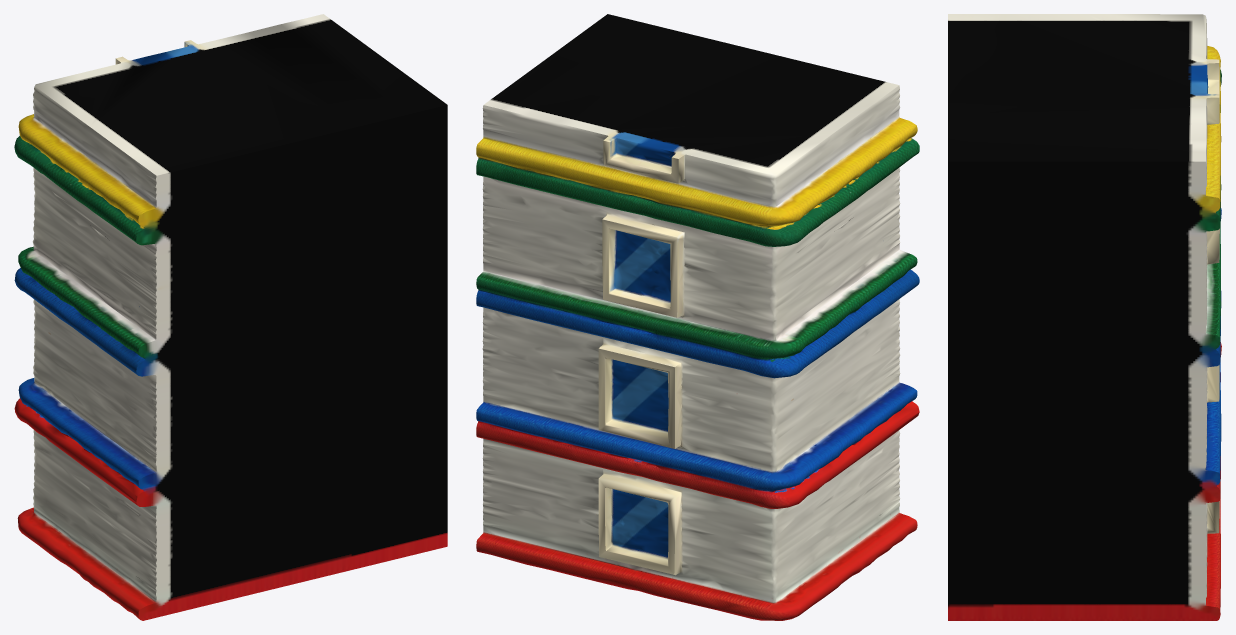
The model's file is 3-ground-floor-back-left.fbx.
The picture shows the model from 3 angles, left to right: view 1: azimuth 30°, elevation 25°; view 2: azimuth 150°, elevation 25°; view 3: azimuth 270°, elevation 25°; orthographic projection. The views are drawn at different scales.
Visible parts, largest first — view 1: ground-floor-back-left; view 2: ground-floor-back-left; view 3: ground-floor-back-left.
Part boxes in pixels (x1,y1,x2,y2): ground-floor-back-left: (14,14,447,620); ground-floor-back-left: (476,14,919,620); ground-floor-back-left: (948,14,1221,620).
Bounding box in the file's own units: 5493 × 7454 × 4026.
1 material, 1 textured.
